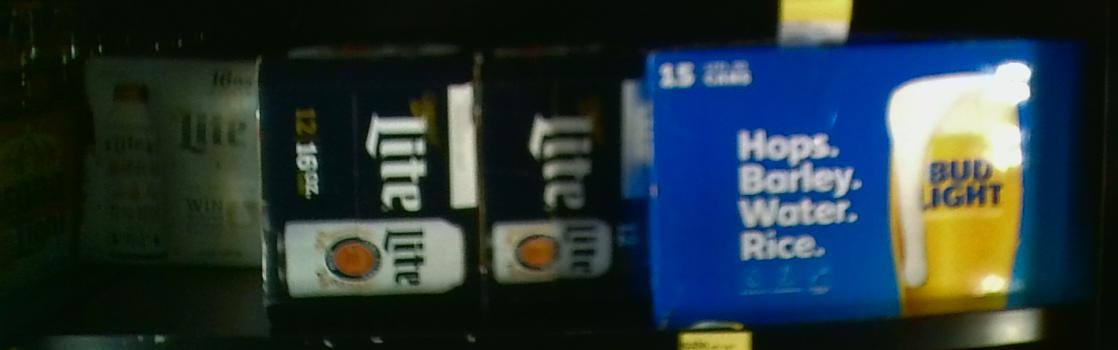bottle: (656, 44, 1110, 325), (256, 57, 479, 313), (475, 54, 648, 308), (81, 43, 261, 271)
